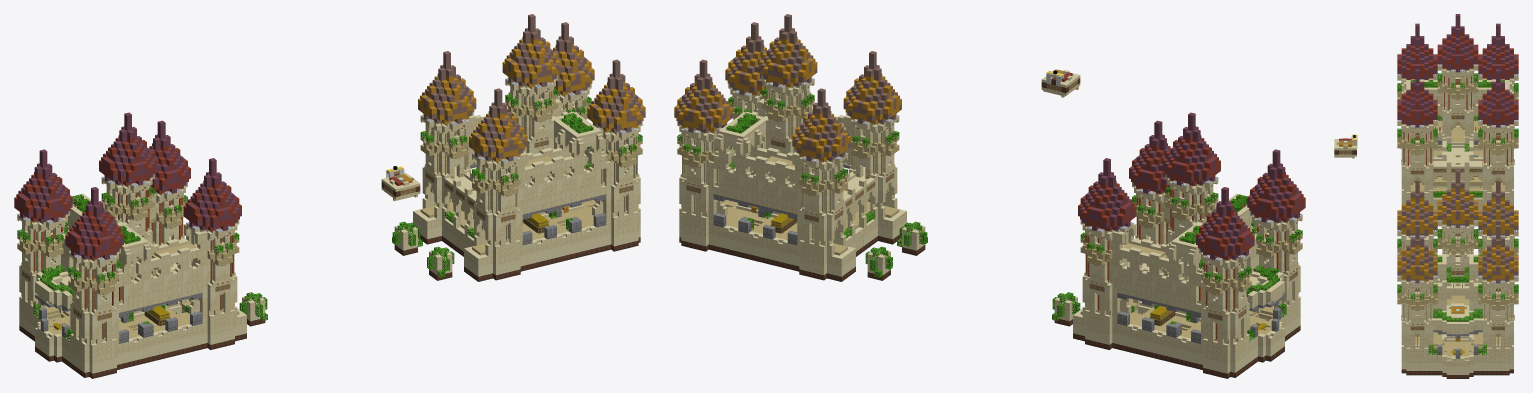
The model's file is minecraft.obj.
3 renders of one model, left to right at view 1: azimuth 30°, elevation 25°; view 2: azimuth 150°, elevation 25°; view 3: azimuth 270°, elevation 25°, orthographic. The views are drawn at different scales.
Size of the model in its own units: 117 by 43 by 41.
